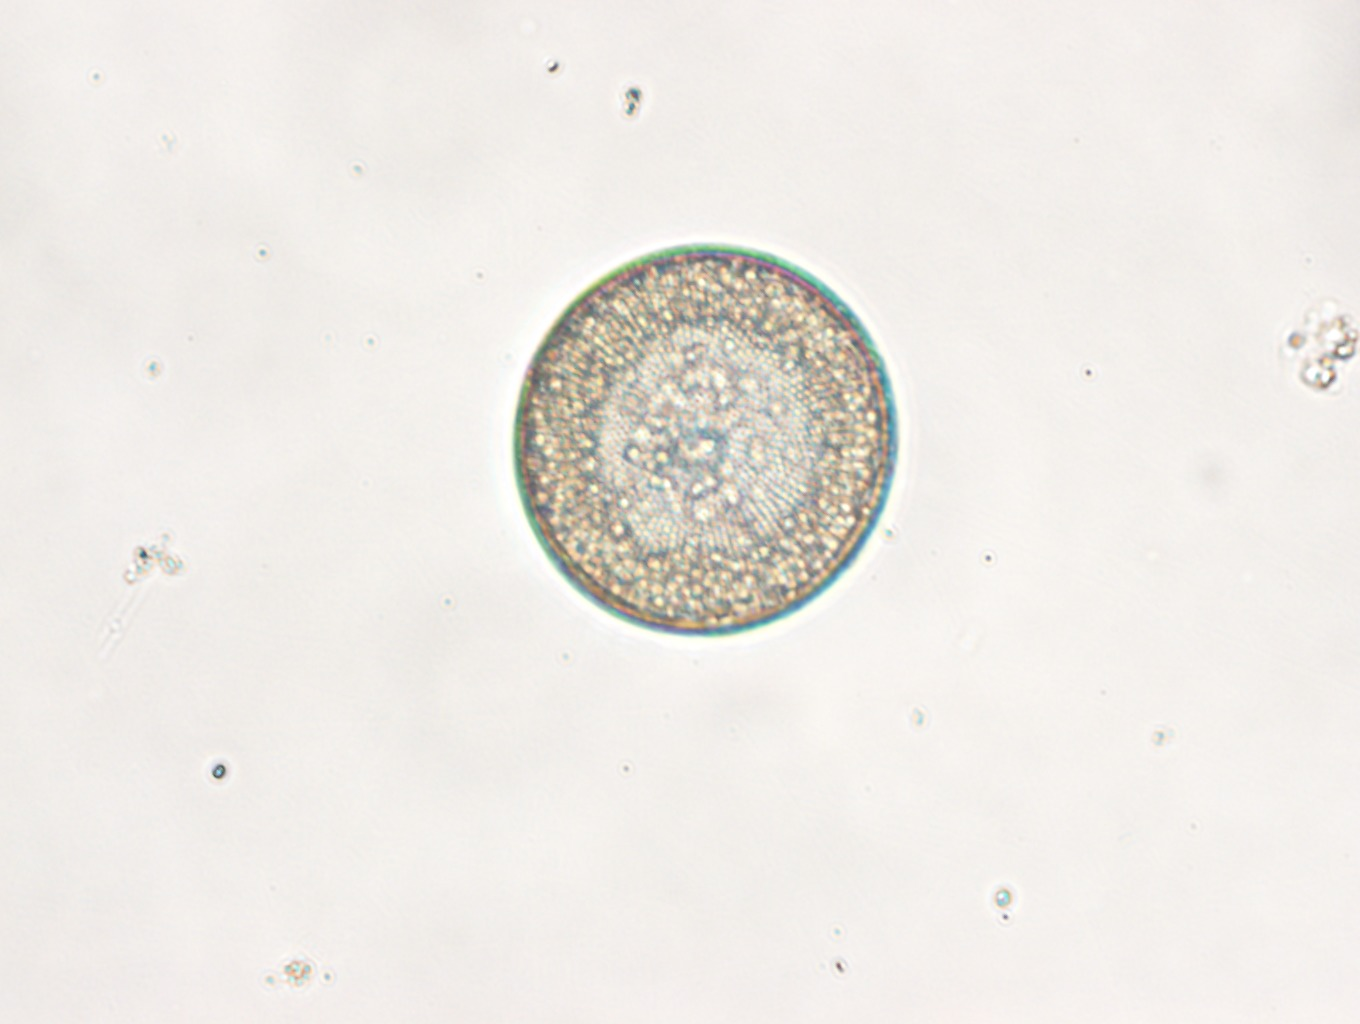coscinodiscus: (511, 239, 898, 632)
